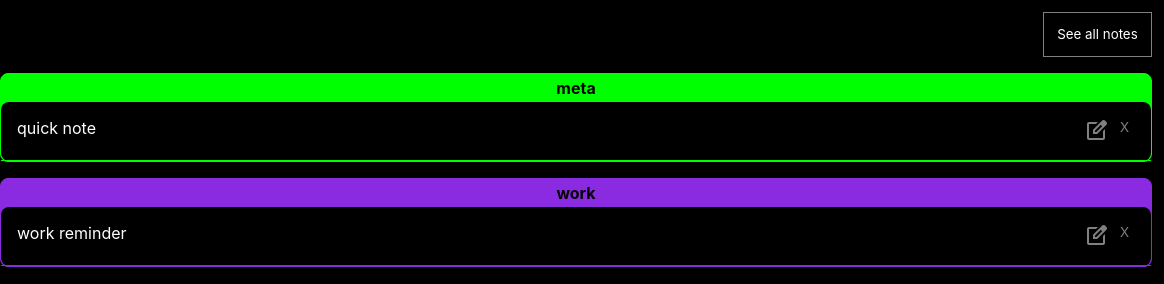
Test case: App › happy notes! › does not delete a note after canceling
The image size is (1164, 284).
Expected: the text "quick note" is shown, [17,118,96,144]
What coordinates should you click on to do the following:
click the button with test id "note-1-delete"
I would click on:
 (1124, 127)
Its box is [1114,118,1135,136].
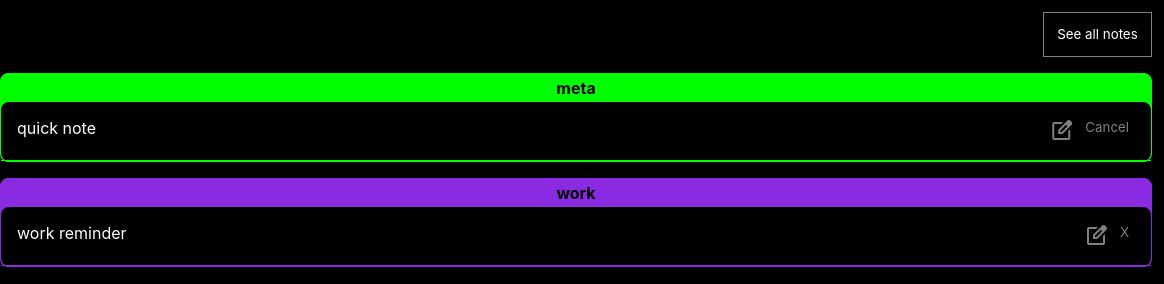
What coordinates should you click on to do the following:
click the button "Cancel"
I would click on:
 (1107, 127)
Its box is [1079,118,1135,136].
Wait 4000 ms
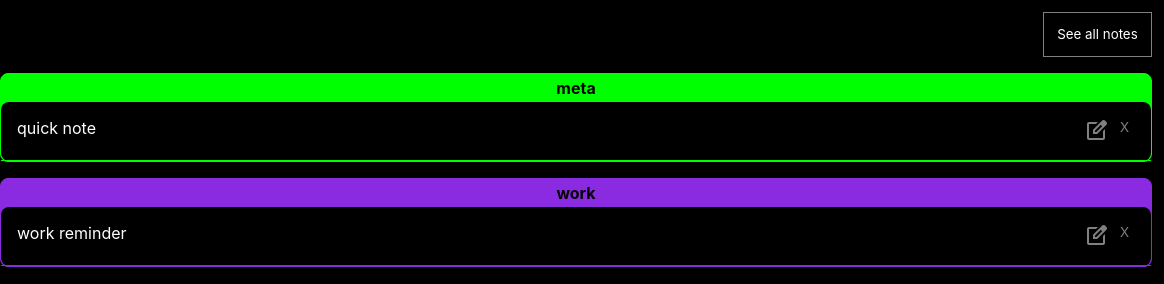
Now the button "Cancel" is gone
